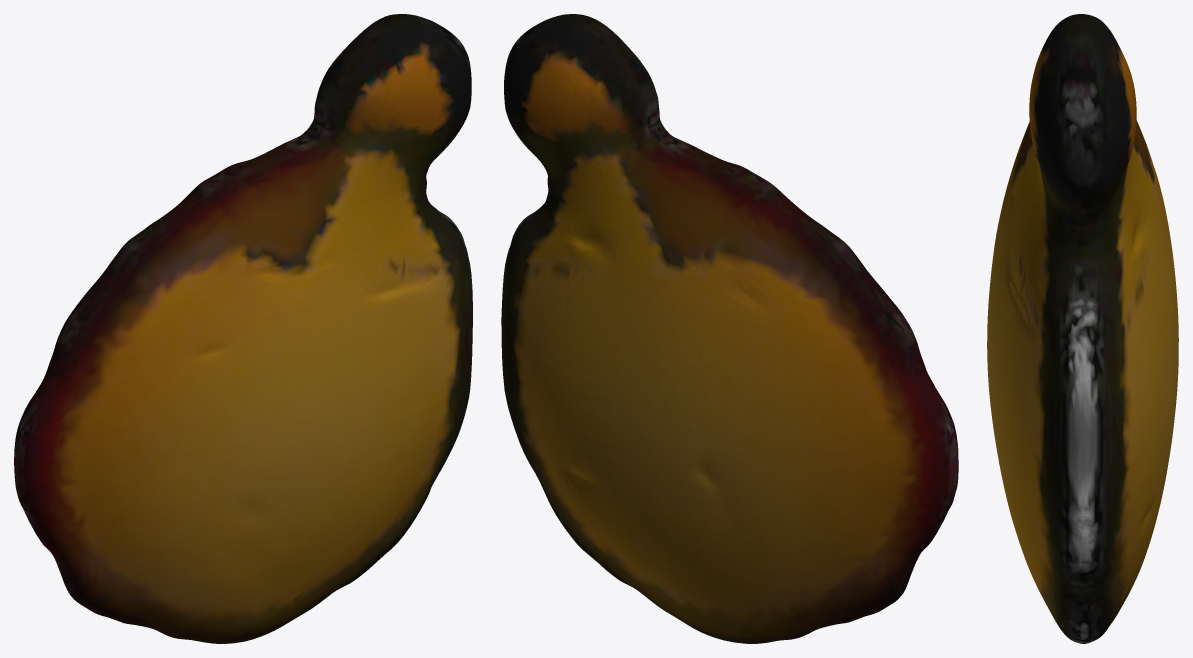
The model's file is min_oil.glb.
3 renders of one model, left to right at view 1: azimuth 30°, elevation 25°; view 2: azimuth 150°, elevation 25°; view 3: azimuth 270°, elevation 25°, orthographic. The views are drawn at different scales.
Visible parts, largest first — view 1: geometry_0; view 2: geometry_0; view 3: geometry_0.
Boxes of the visible parts, bbox=[...] form: geometry_0: bbox=[14, 14, 472, 643]; geometry_0: bbox=[501, 14, 958, 643]; geometry_0: bbox=[987, 14, 1178, 643].
Size of the model in its own units: 0.375 by 0.4645 by 0.1167.
